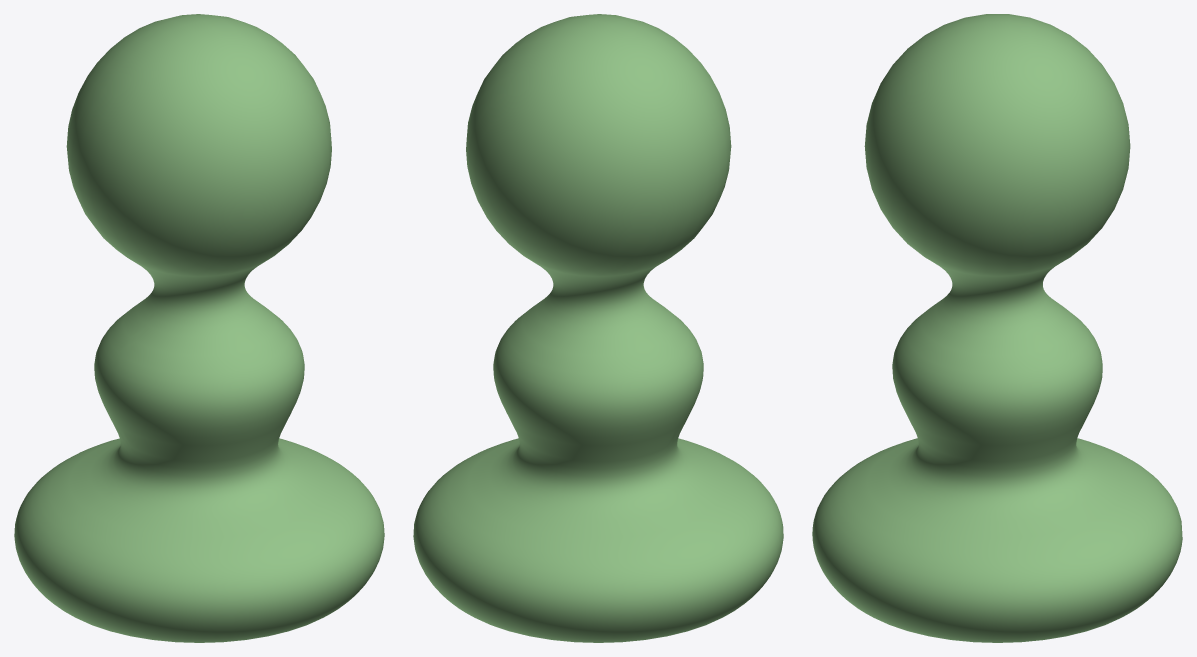
Rendered from Fate Game Piece V2 Olivine.glb.
3 renders of one model, left to right at view 1: azimuth 30°, elevation 25°; view 2: azimuth 150°, elevation 25°; view 3: azimuth 270°, elevation 25°, orthographic.
Parts seen in each view (by area): view 1: Solid1; view 2: Solid1; view 3: Solid1.
Boxes of the visible parts, x1,y1,x2,y2 form: Solid1: (14,14,384,642); Solid1: (413,14,783,642); Solid1: (812,14,1182,642).
Bounding box in the file's own units: 0.0334 × 0.0547 × 0.0334.
